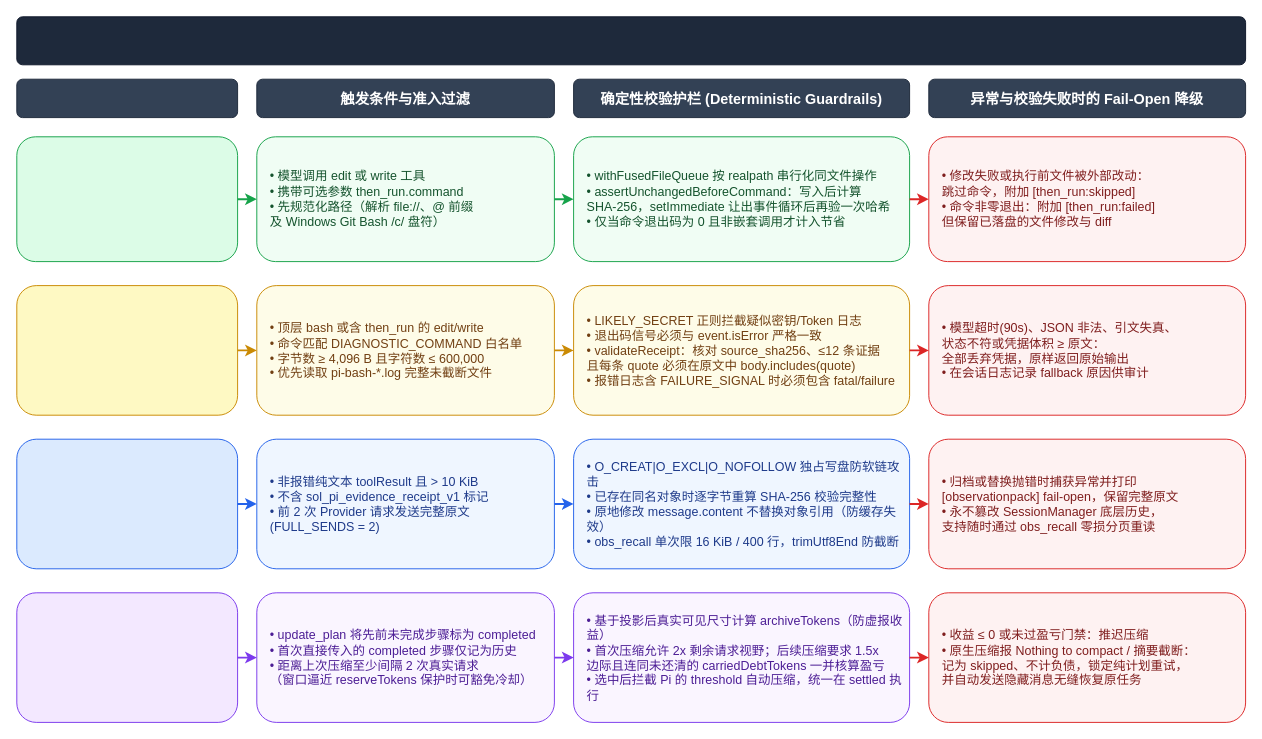
Image size: 1262x739. Some labels were removed from this diagram. The shapes that lost their labels are listed below. From the top down, each one's centre as x and y in pixels, then its label:
At point (631, 40): "SoL-Pi 四大机制的触发条件、确定性校验护栏与 Fail-Open 降级边界".
At point (127, 98): "机制与源码入口".
At point (127, 199): "① Action Fusion action-fusion/ then-run.ts file-queue.ts".
At point (127, 350): "② Evidence-Preserving Reducer (EPR) evidence-preserving- reducer/receipt.ts".
At point (127, 503): "③ ObservationPack observation-pack/ observation.ts index.ts".
At point (127, 657): "④ Online Context Compact (OCC) online-context-compact/ economics.ts".
